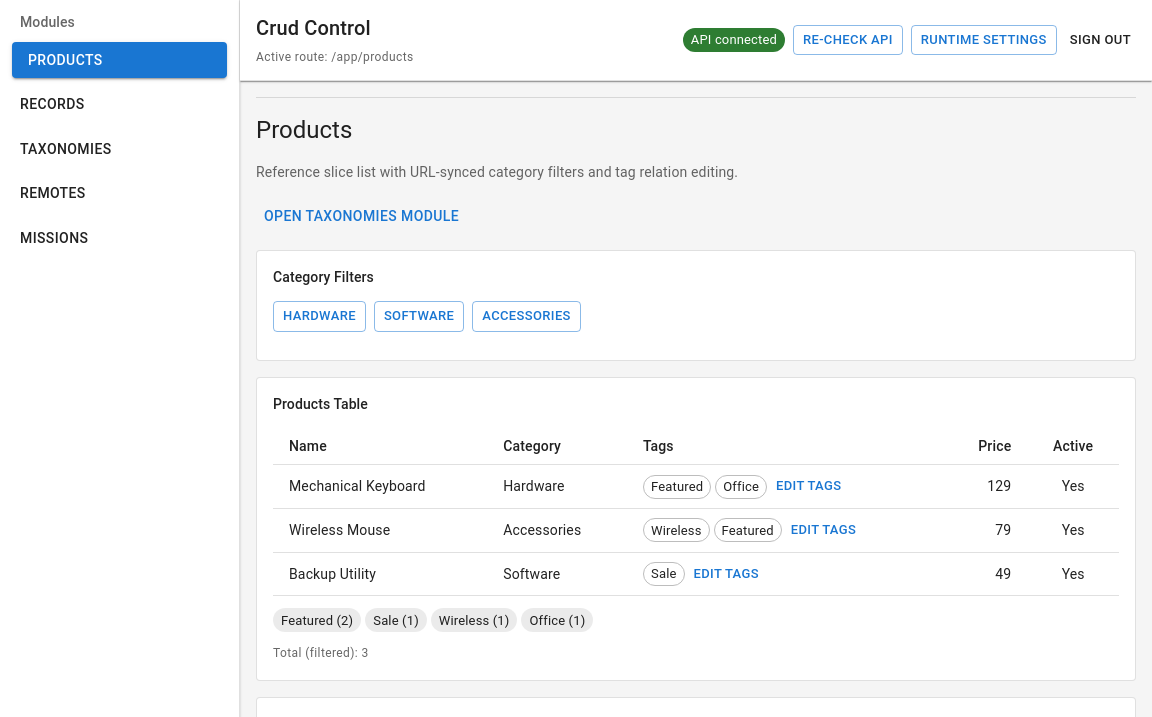
Test: Deploy and remotes › deploy state panel reflects dirty state and successful deploy job
Expected: the heading "Products" is shown, 256,116 -> 352,144
Expected: the text "Mechanical Keyboard" is shown, 273,465 -> 487,508
Step 1. Click the button "Edit tags" in the row of "Mechanical Keyboard" → (809, 486), box 771,471 -> 846,502
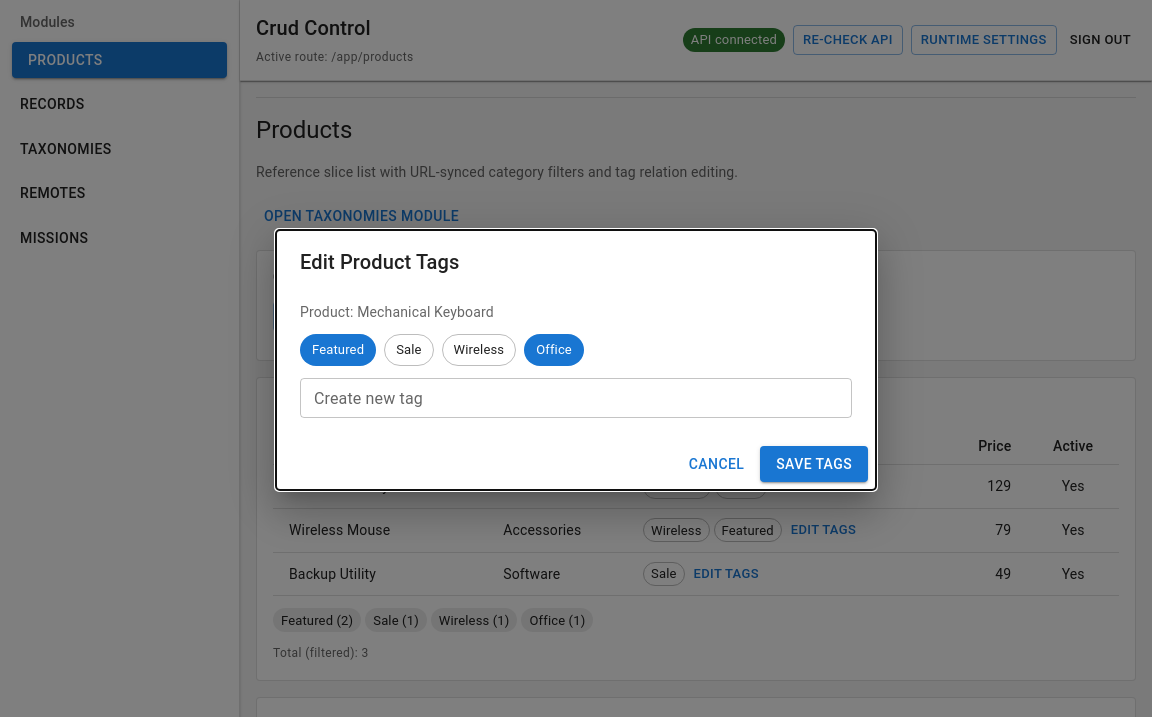
Step 2. Click the button "Save tags" → (814, 464), box 760,446 -> 868,482
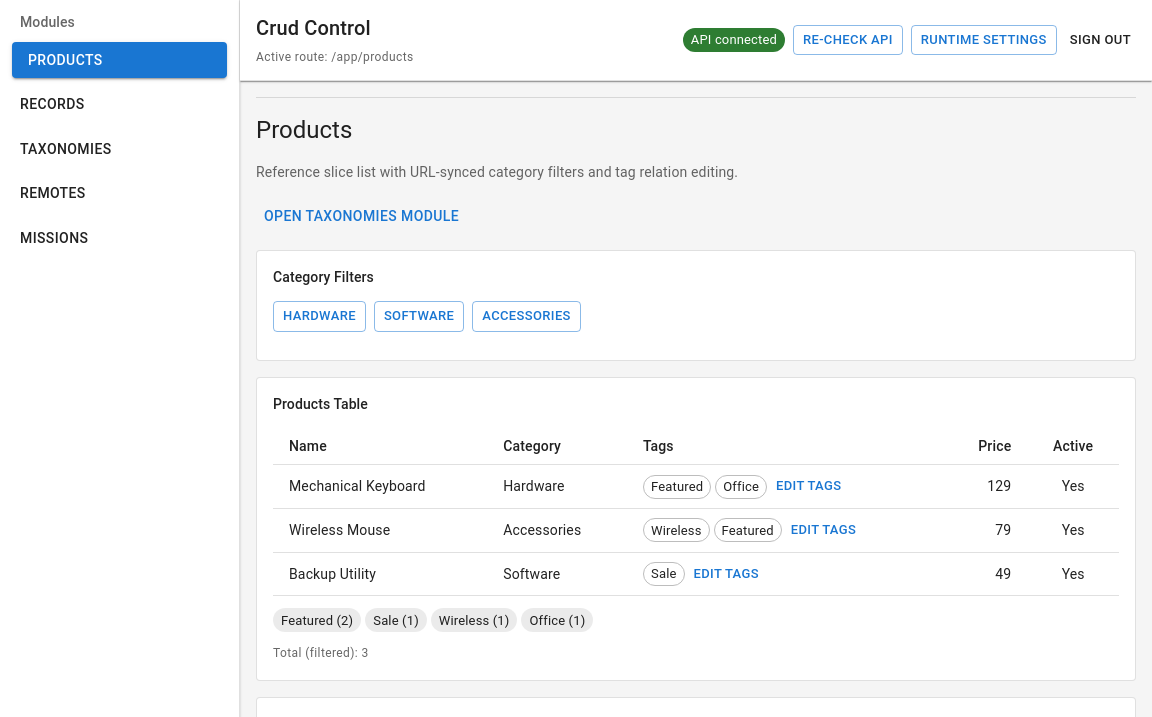
Expected: the heading "Edit Product Tags" is gone
Step 3. Click the button "Remotes" → (120, 194), box 12,176 -> 227,212
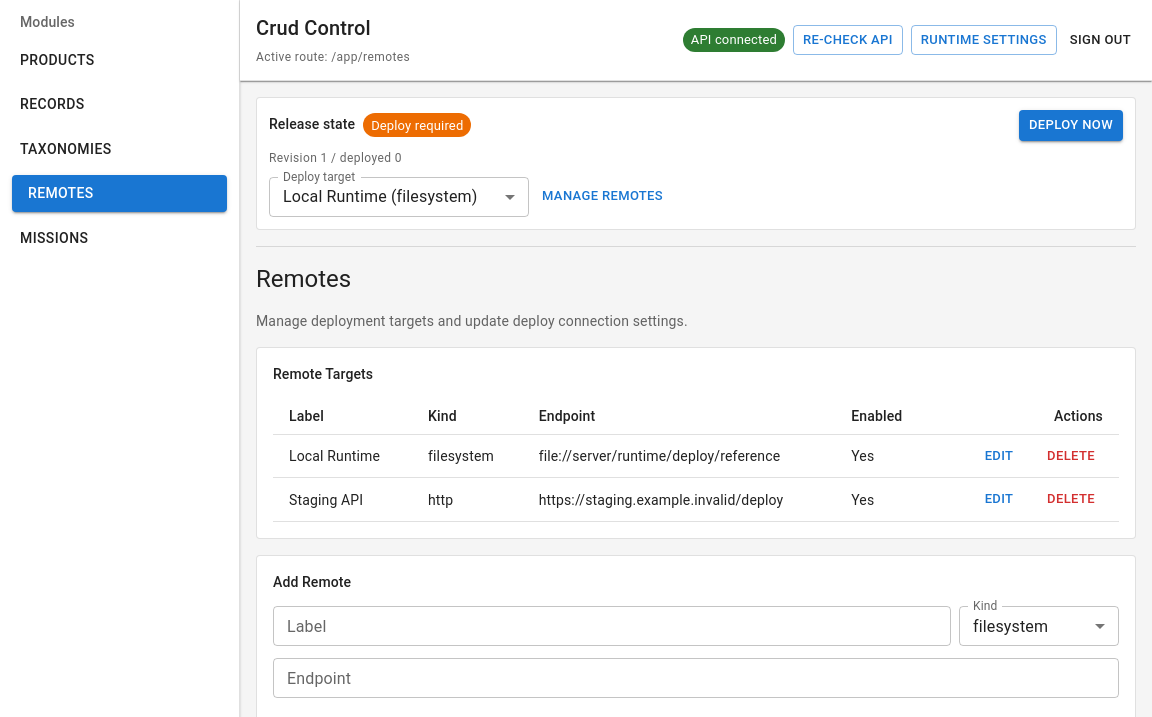
Expected: the text "Deploy required" is shown, 363,116 -> 471,135
Expected: the element named "deployTarget" is shown, 269,177 -> 529,217
Expected: the button "Deploy now" is enabled
Step 4. Click the button "Deploy now" → (1071, 125), box 1019,110 -> 1123,141
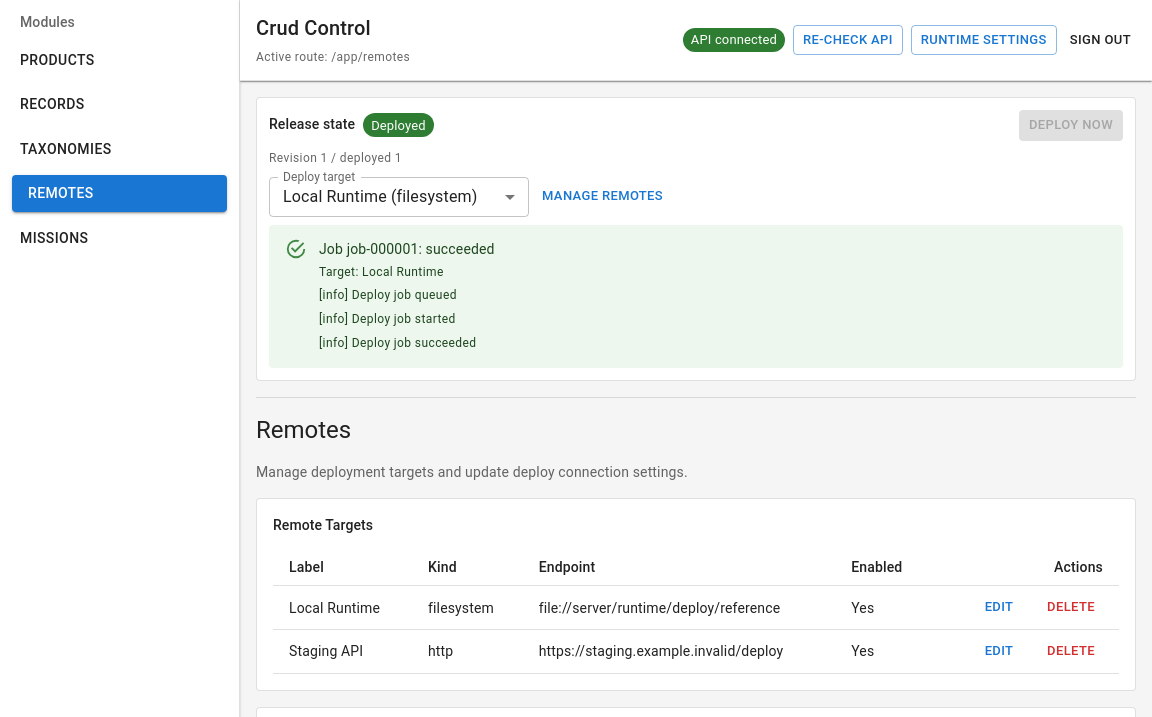
Expected: the text "Deployed" is shown, 371,118 -> 426,132
Expected: the text "Job job-000001: succeeded" is shown, 319,239 -> 495,259
Expected: the text "[info] Deploy job succeeded" is shown, 319,334 -> 495,354
